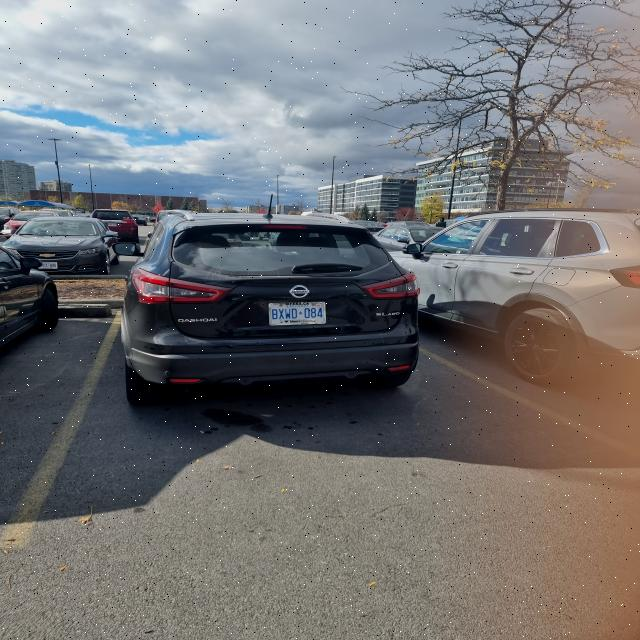plaque: (269, 302, 325, 325), (41, 262, 57, 269), (107, 223, 117, 226)
